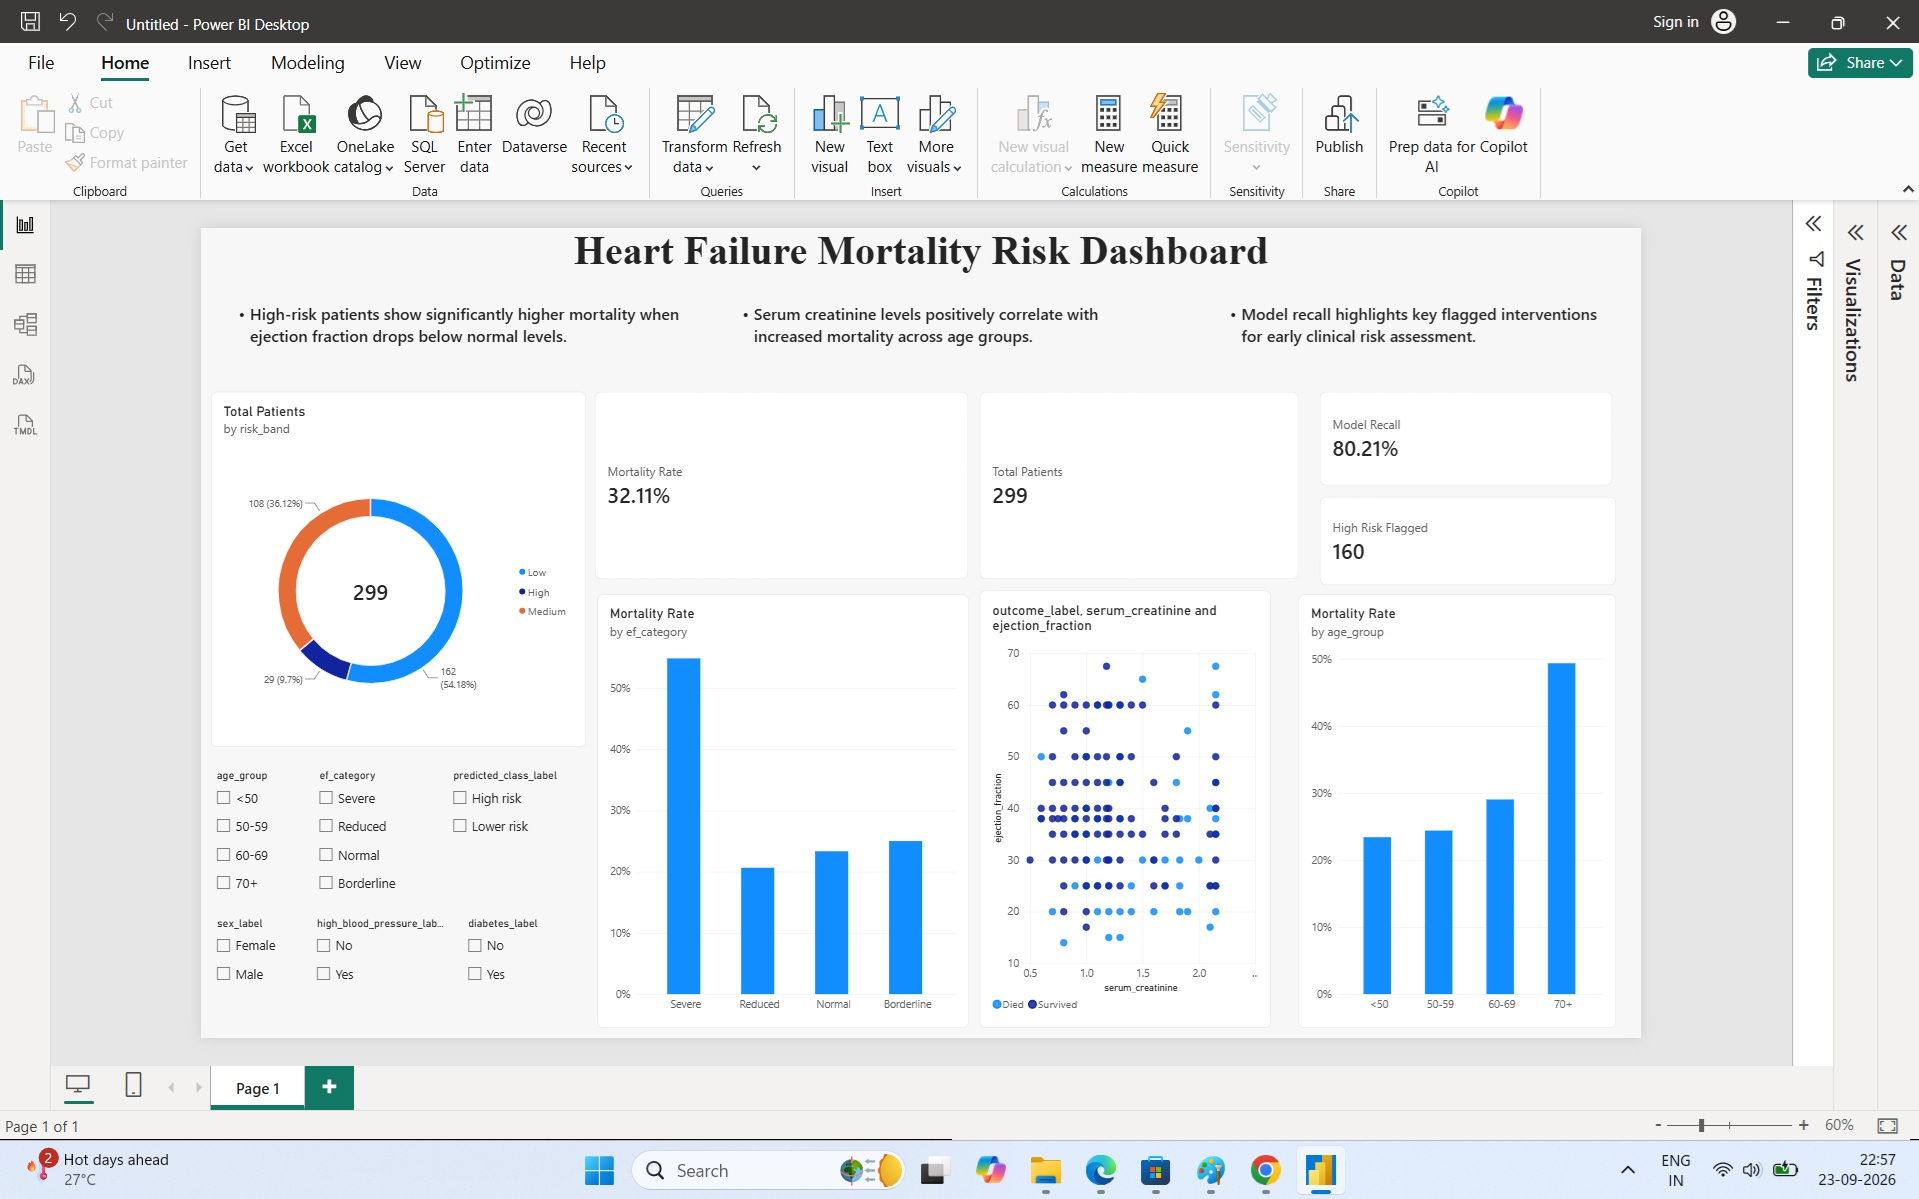

This screenshot's page, from the dashboard's own definition file:
{"tool":"powerbi","page":{"name":"Page 1","canvas":[1920,1080],"ordinal":0},"visuals":[{"type":"cardVisual","fields":{"Data":["heart.Total Patients"]},"box":[1038.3,218.3,425,250],"z":0},{"type":"cardVisual","fields":{"Data":["heart.Mortality Rate"]},"box":[525,218.3,498.3,250],"z":1000},{"type":"cardVisual","fields":{"Data":["heart.High Risk Flagged"]},"box":[1491.7,358.3,395,118.3],"z":2000},{"type":"cardVisual","fields":{"Data":["heart.Model Recall"]},"box":[1491.7,218.3,390,125],"z":3000},{"type":"clusteredColumnChart","fields":{"Category":["heart.age_group"],"Y":["heart.Mortality Rate"]},"box":[1463.3,488.3,423.3,578.3],"z":4000},{"type":"clusteredColumnChart","fields":{"Category":["heart.ef_category"],"Y":["heart.Mortality Rate"]},"box":[528.3,488.3,495,578.3],"z":5000},{"type":"donutChart","fields":{"Category":["heart.risk_band"],"Y":["heart.Total Patients"]},"box":[13.3,218.3,500,473.3],"z":6000},{"type":"slicer","fields":{"Values":["heart.age_group"]},"box":[13.3,721.7,136.7,173.3],"z":7000},{"type":"slicer","fields":{"Values":["heart.sex_label"]},"box":[13.3,918.3,118.3,123.3],"z":8000},{"type":"slicer","fields":{"Values":["heart.ef_category"]},"box":[150,721.7,178.3,173.3],"z":9000},{"type":"slicer","fields":{"Values":["heart.high_blood_pressure_label"]},"box":[146.7,918.3,193.3,98.3],"z":10000},{"type":"slicer","fields":{"Values":["heart.diabetes_label"]},"box":[348.3,918.3,140,110],"z":11000},{"type":"slicer","fields":{"Values":["heart.predicted_class_label"]},"box":[328.3,721.7,173.3,150],"z":12000},{"type":"textbox","box":[0,0,1920,100],"z":13000},{"type":"textbox","box":[33.3,100,645,118.3],"z":14000},{"type":"textbox","box":[705,100,578.3,88.3],"z":15000},{"type":"textbox","box":[1355,81.7,531.7,106.7],"z":16000},{"type":"scatterChart","fields":{"Series":["heart.outcome_label"],"X":["heart.serum_creatinine"],"Y":["heart.ejection_fraction"]},"box":[1038.3,483.3,388.3,583.3],"z":17000}]}

Visuals, with their boxes on the page's 1920x1080 design canvas (x1, y1, x2, y2). These are canvas units, not pixel positions in the 1919x1199 screenshot, which may show the page scaled, cropped or inside an application window:
cardVisual - heart.Total Patients: bbox=(1038, 218, 1463, 468)
cardVisual - heart.Mortality Rate: bbox=(525, 218, 1023, 468)
cardVisual - heart.High Risk Flagged: bbox=(1492, 358, 1887, 477)
cardVisual - heart.Model Recall: bbox=(1492, 218, 1882, 343)
clusteredColumnChart - heart.age_group x heart.Mortality Rate: bbox=(1463, 488, 1887, 1067)
clusteredColumnChart - heart.ef_category x heart.Mortality Rate: bbox=(528, 488, 1023, 1067)
donutChart - heart.risk_band x heart.Total Patients: bbox=(13, 218, 513, 692)
slicer - heart.age_group: bbox=(13, 722, 150, 895)
slicer - heart.sex_label: bbox=(13, 918, 132, 1042)
slicer - heart.ef_category: bbox=(150, 722, 328, 895)
slicer - heart.high_blood_pressure_label: bbox=(147, 918, 340, 1017)
slicer - heart.diabetes_label: bbox=(348, 918, 488, 1028)
slicer - heart.predicted_class_label: bbox=(328, 722, 502, 872)
textbox: bbox=(0, 0, 1920, 100)
textbox: bbox=(33, 100, 678, 218)
textbox: bbox=(705, 100, 1283, 188)
textbox: bbox=(1355, 82, 1887, 188)
scatterChart - heart.outcome_label x heart.serum_creatinine: bbox=(1038, 483, 1427, 1067)
